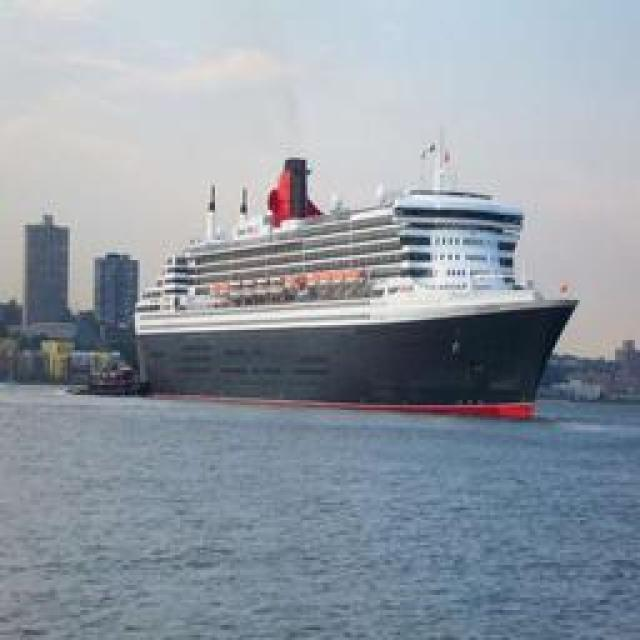CIV_Ship: (135, 171, 580, 409)
